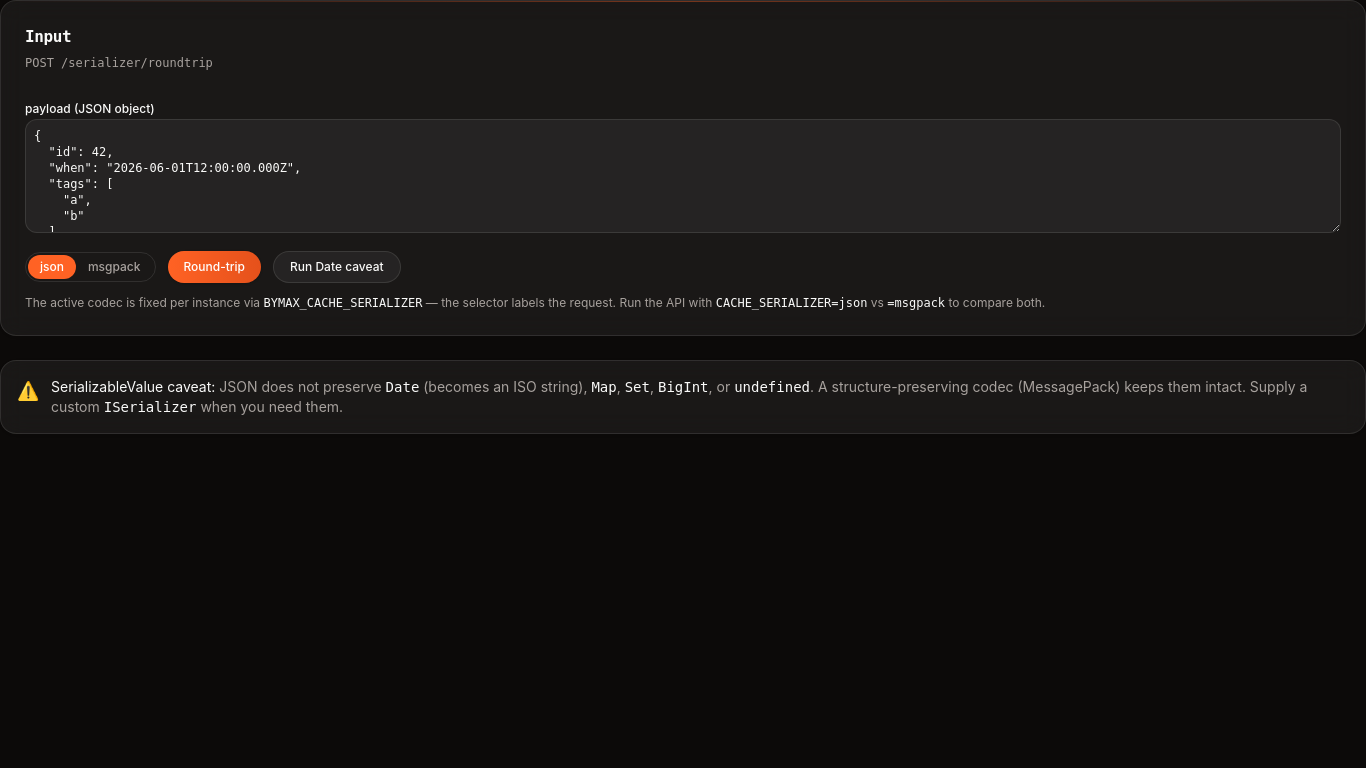
Test: SerializerView › shows the Date-lost badge and the zero-byte fallback when raw is null
What coordinates should you click on to do the following:
click the button "Run Date caveat"
I would click on:
 (337, 267)
Its box is [273,251,400,283].
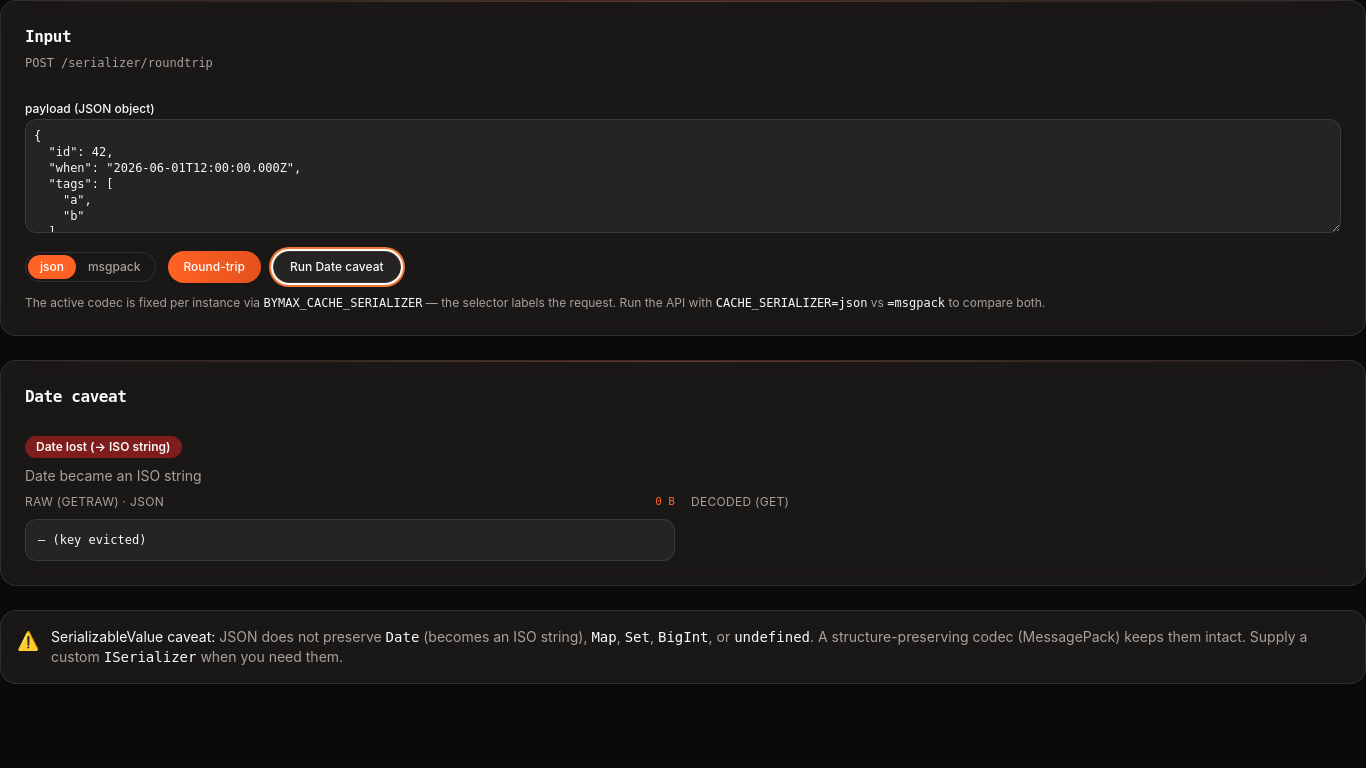
Now the text "Date lost (→ ISO string)" is shown, box [25,436,182,458]
Now the text "— (key evicted)" is shown, box [25,518,675,560]
Now the text "0 B" is shown, box [655,494,675,510]
